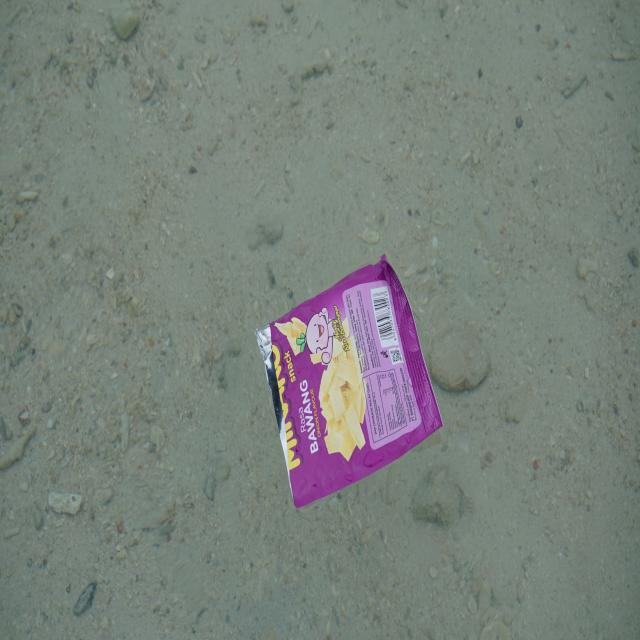Bungkus Makanan: (250, 252, 446, 522)
